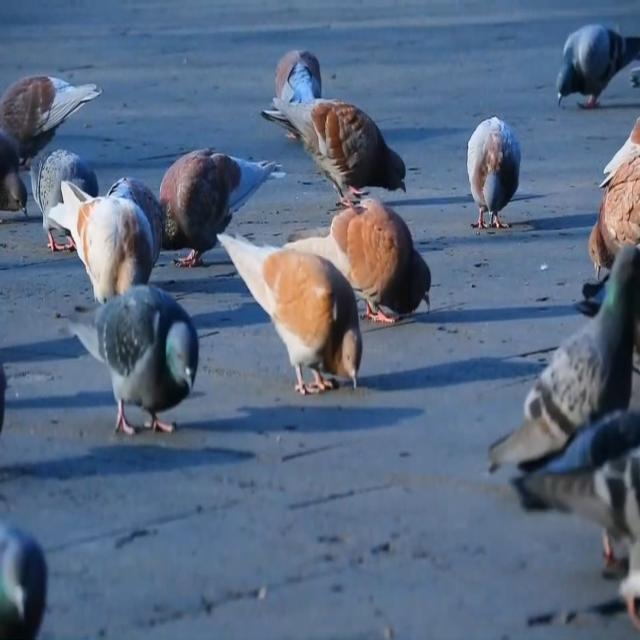bird: (482, 226, 640, 497), (201, 222, 369, 408), (48, 274, 209, 462), (262, 73, 406, 220), (139, 138, 290, 274), (319, 187, 439, 345), (40, 171, 156, 311), (0, 61, 109, 164), (21, 132, 103, 260), (577, 144, 640, 303), (461, 111, 532, 252), (543, 15, 640, 116), (0, 507, 63, 634), (264, 39, 328, 131), (0, 128, 35, 234)
